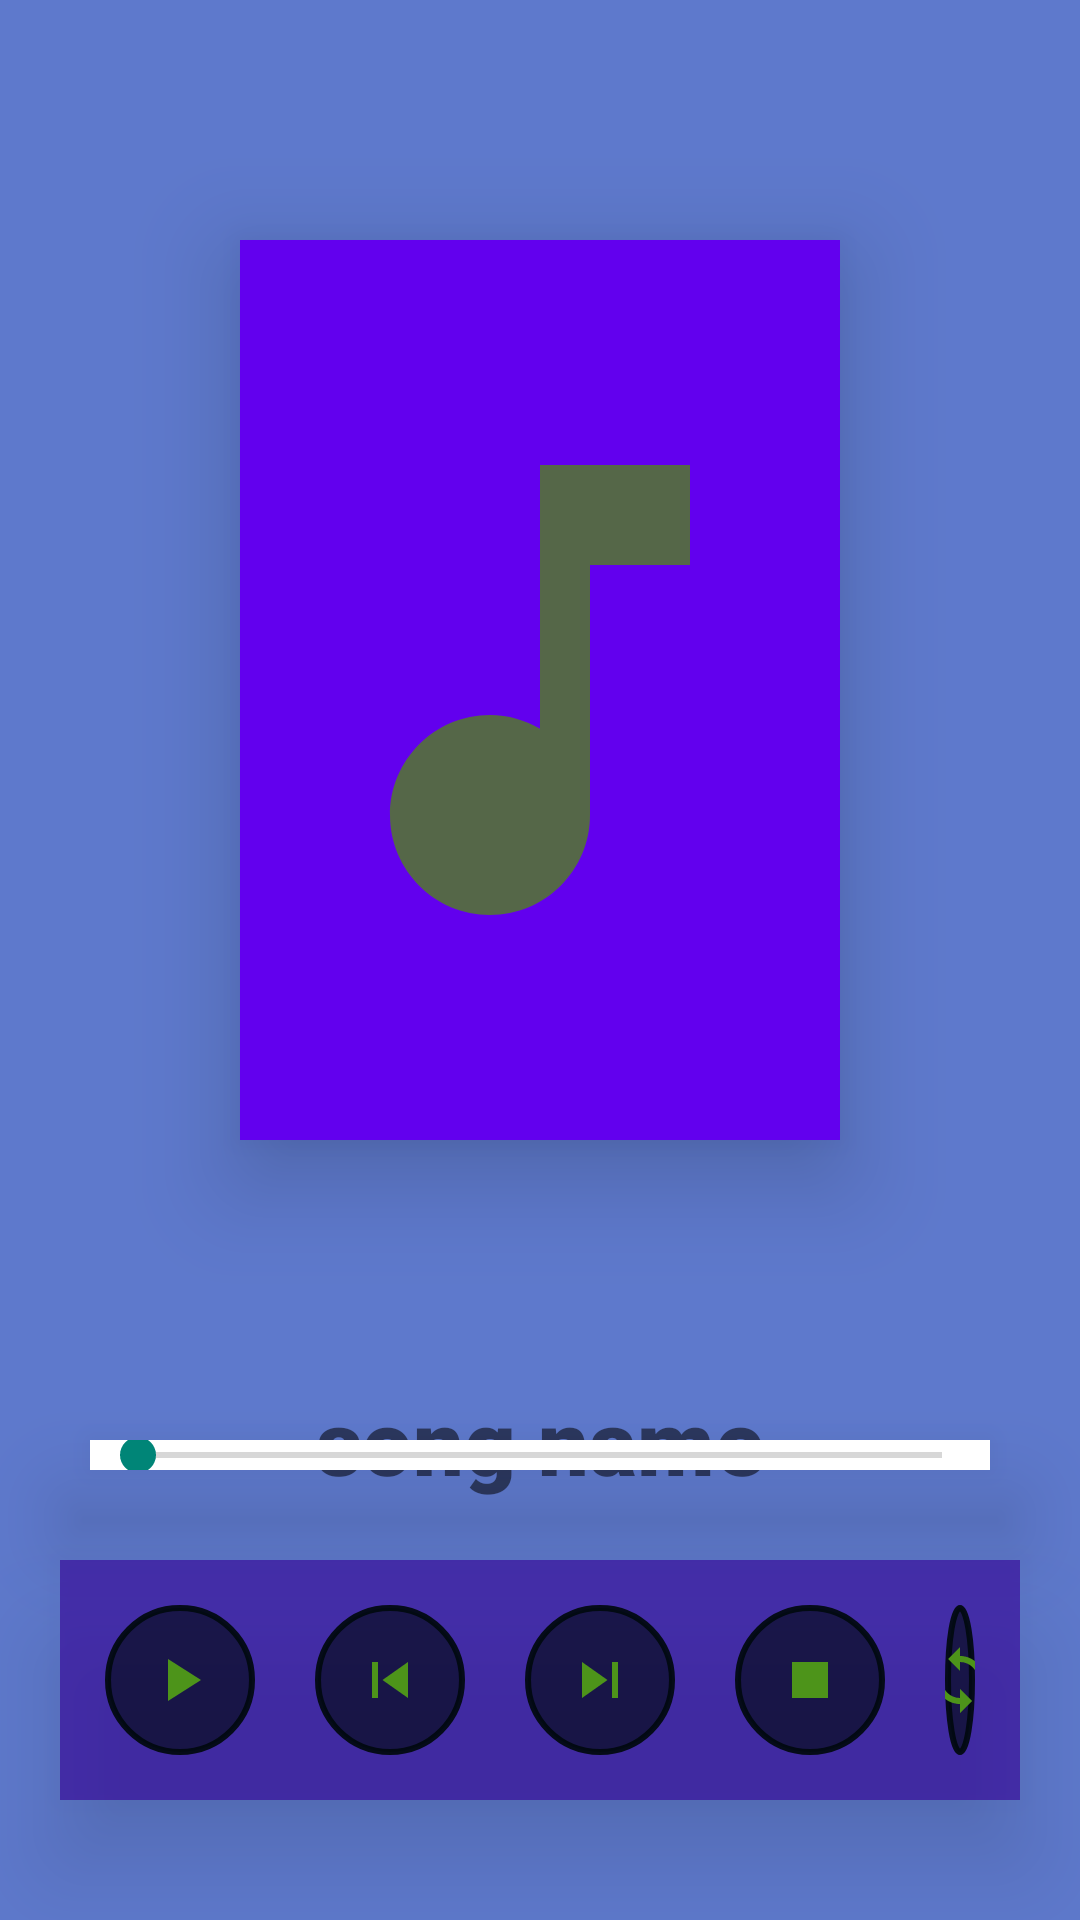

Where to tap for icons on this 1080w x 1920h app screen, as (x,y):
loop: (960,1680)
play: (180,1680)
skipback: (390,1680)
skipnext: (600,1680)
stop: (810,1680)
